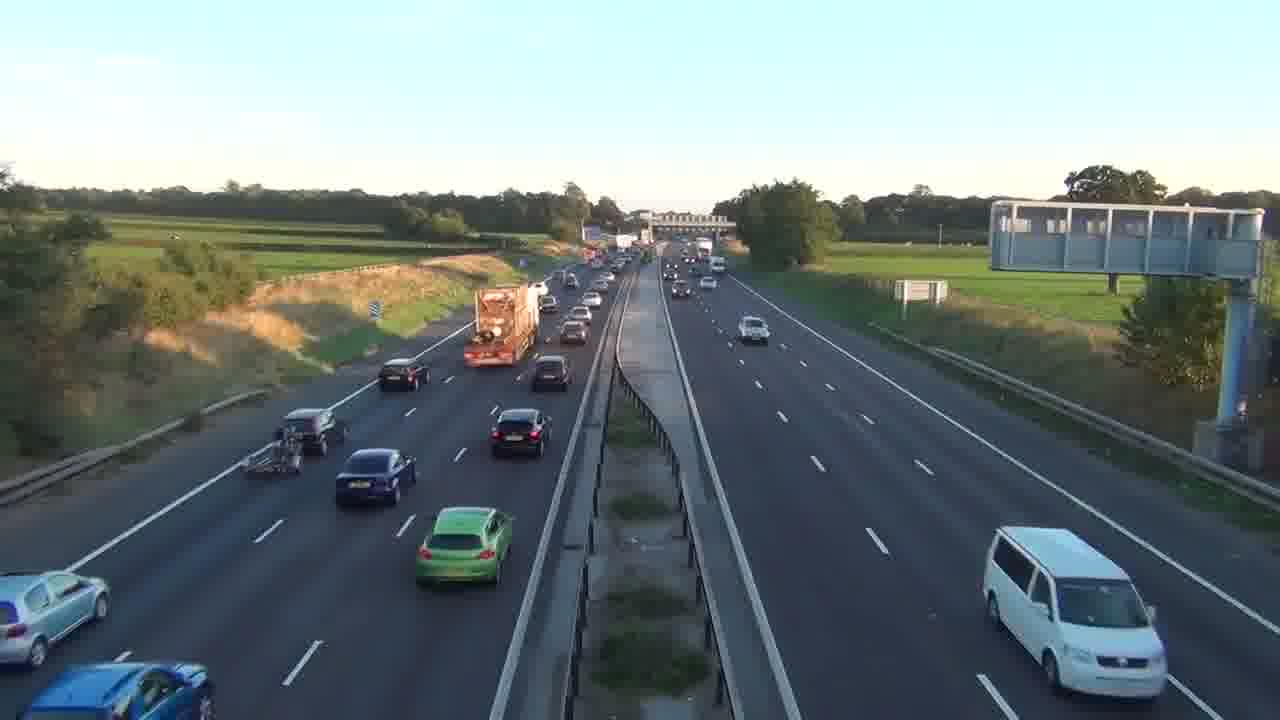car: (20, 657, 217, 719), (0, 569, 111, 671), (414, 505, 516, 588), (334, 447, 418, 506), (488, 407, 552, 457), (532, 353, 573, 392), (736, 313, 770, 345)
truck: (980, 524, 1169, 703), (464, 284, 537, 368)
